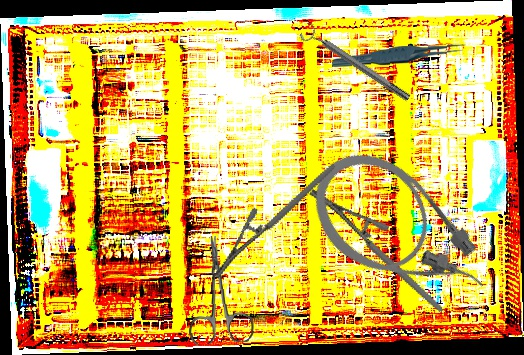Cannula: (292, 131, 507, 337)
Fixation Ring: (298, 20, 414, 108)
Iris Scissors: (182, 233, 256, 346)
Needle Holder: (307, 161, 444, 341), (192, 163, 358, 280)
Tissue Forceps: (331, 42, 468, 69)
